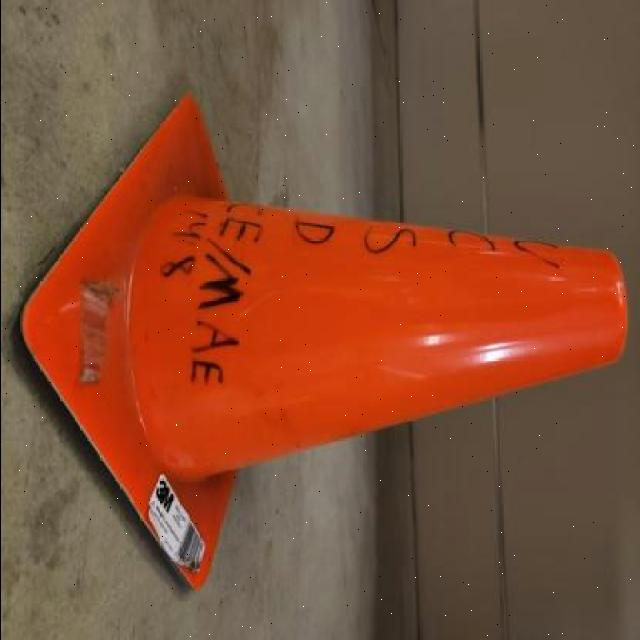traffic cone: (16, 79, 634, 600)
